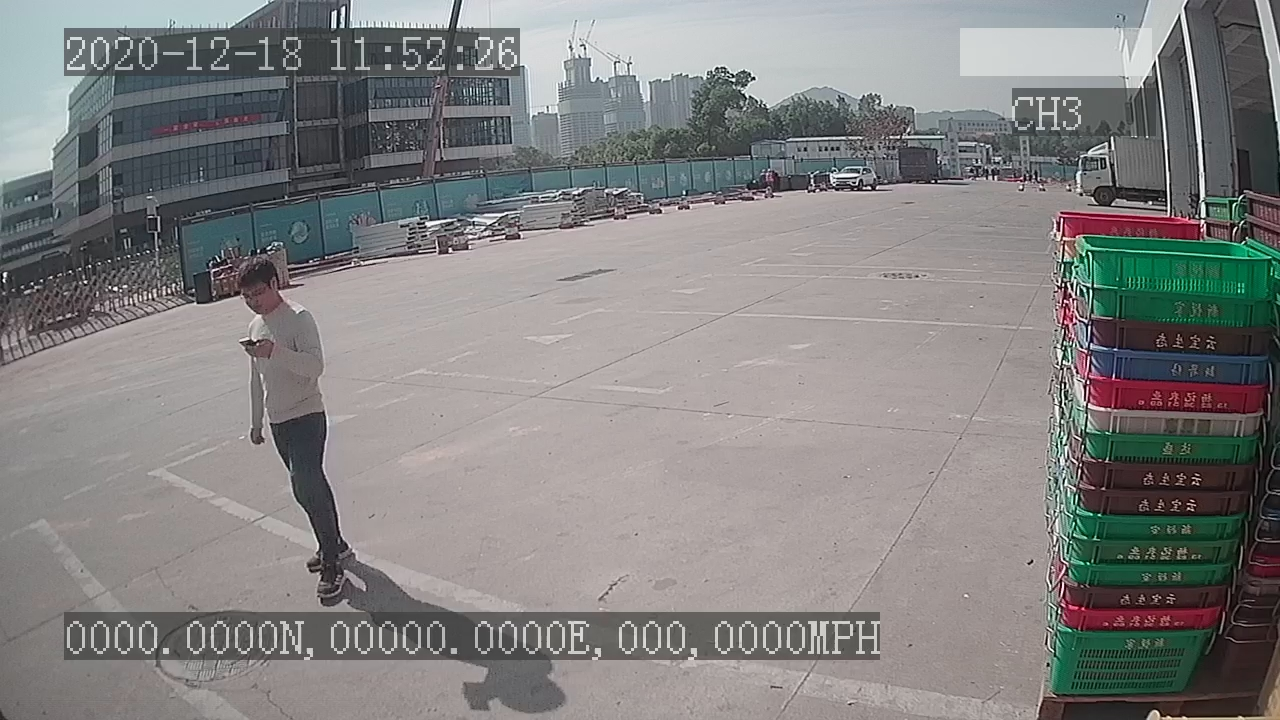person: (229, 247, 359, 610)
